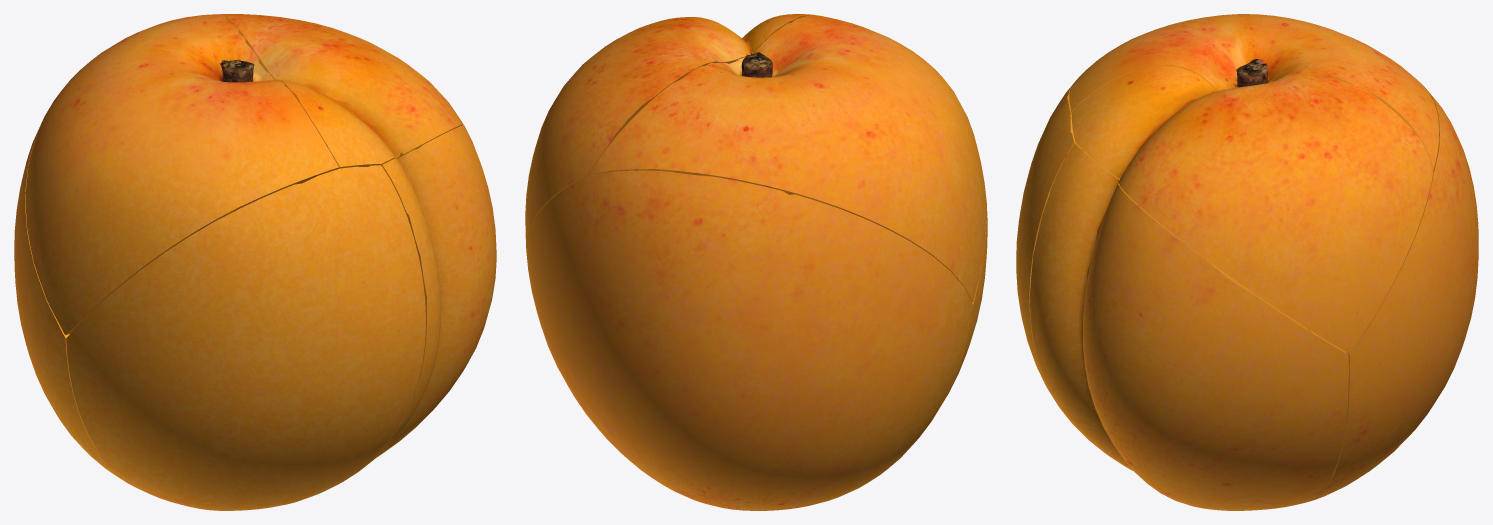
Rendered from peach_pieces.fbx.
3 views of the same model, side by side, from view 1: azimuth 30°, elevation 25°; view 2: azimuth 150°, elevation 25°; view 3: azimuth 270°, elevation 25° (orthographic).
Visible parts, largest first — view 1: peach_whole_cell.002, peach_whole_cell.004, peach_whole_cell.001, peach_whole_cell, peach_whole_cell.003; view 2: peach_whole_cell.003, peach_whole_cell.004, peach_whole_cell, peach_whole_cell.002; view 3: peach_whole_cell.001, peach_whole_cell, peach_whole_cell.003, peach_whole_cell.004, peach_whole_cell.002.
Boxes of the visible parts, bbox=[...] form: peach_whole_cell.002: bbox=[66, 165, 425, 510]; peach_whole_cell.004: bbox=[25, 14, 339, 334]; peach_whole_cell.001: bbox=[321, 125, 496, 492]; peach_whole_cell: bbox=[222, 14, 463, 168]; peach_whole_cell.003: bbox=[14, 108, 130, 484]; peach_whole_cell.003: bbox=[526, 170, 972, 510]; peach_whole_cell.004: bbox=[589, 15, 986, 301]; peach_whole_cell: bbox=[525, 14, 815, 247]; peach_whole_cell.002: bbox=[924, 178, 987, 430]; peach_whole_cell.001: bbox=[1029, 143, 1348, 510]; peach_whole_cell: bbox=[1071, 66, 1433, 353]; peach_whole_cell.003: bbox=[1310, 86, 1478, 501]; peach_whole_cell.004: bbox=[1069, 14, 1439, 170]; peach_whole_cell.002: bbox=[1016, 86, 1077, 423].
Bounding box in the file's own units: 76.56 × 78.04 × 74.63.
